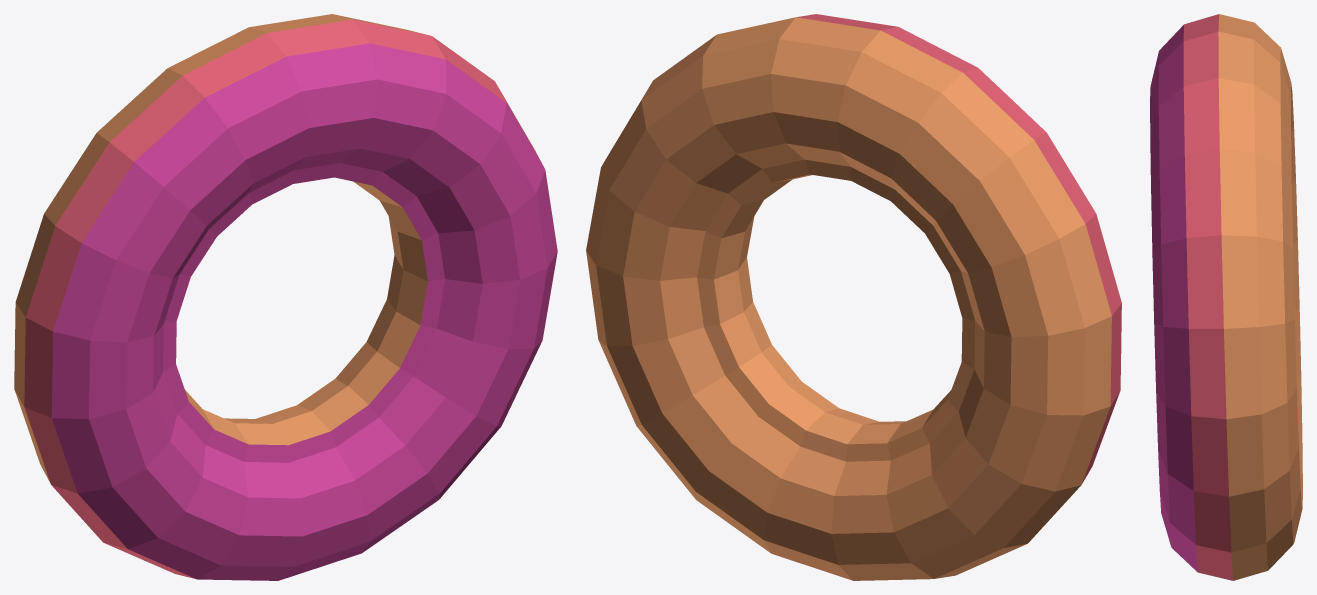
The model's file is donut.fbx.
3 renders of one model, left to right at view 1: azimuth 30°, elevation 25°; view 2: azimuth 150°, elevation 25°; view 3: azimuth 270°, elevation 25°, orthographic. The views are drawn at different scales.
Visible parts, largest first — view 1: Torus.001; view 2: Torus.001; view 3: Torus.001.
Boxes of the visible parts, bbox=[...] form: Torus.001: bbox=[14, 14, 557, 580]; Torus.001: bbox=[586, 14, 1121, 580]; Torus.001: bbox=[1150, 14, 1302, 580].
Size of the model in its own units: 169 by 169 by 45.59.
